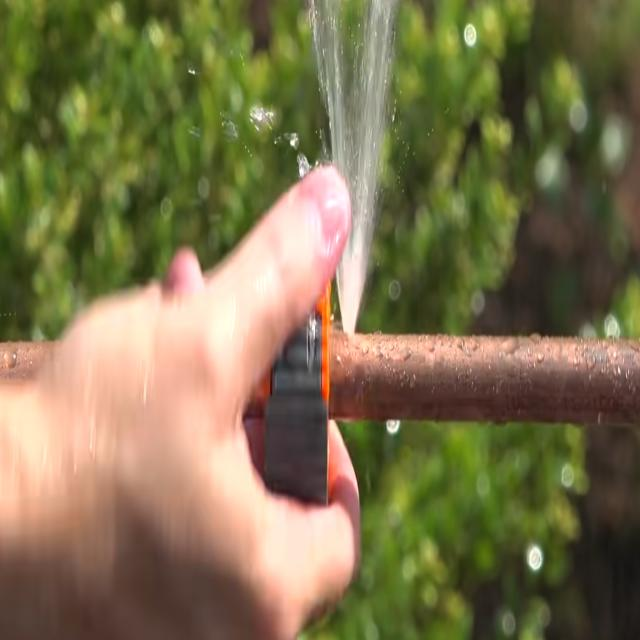leak: (310, 0, 396, 333)
